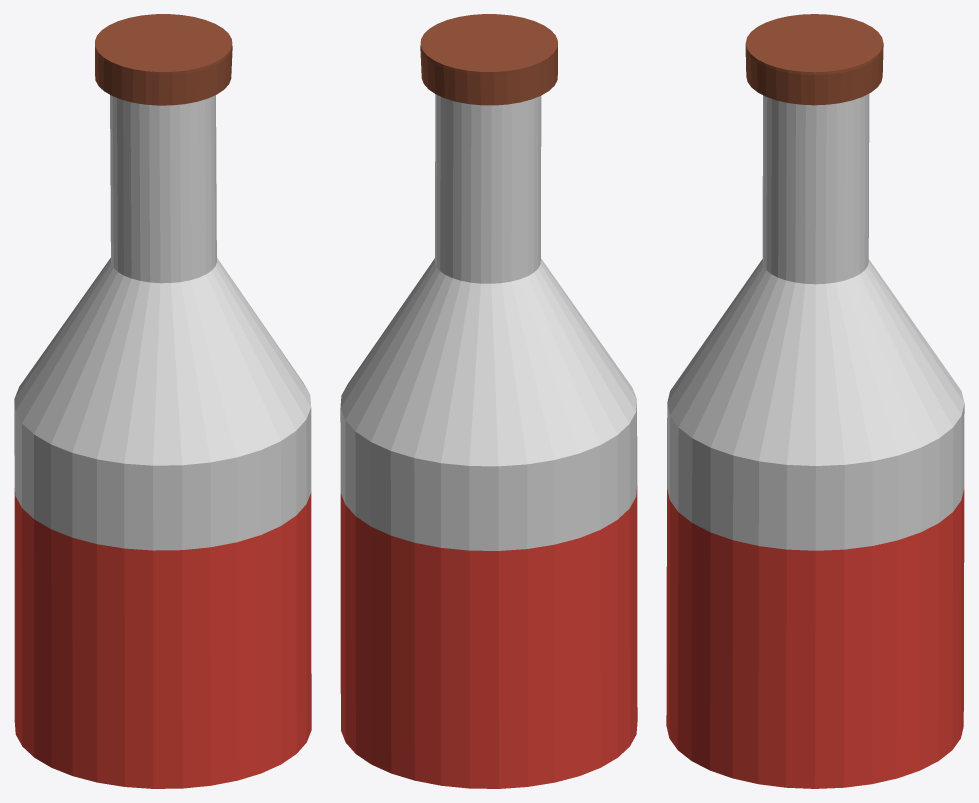
File: Light Potion.fbx
The picture shows the model from 3 angles, left to right: view 1: azimuth 30°, elevation 25°; view 2: azimuth 150°, elevation 25°; view 3: azimuth 270°, elevation 25°; orthographic projection.
Visible parts, largest first — view 1: Circle; view 2: Circle; view 3: Circle.
Part boxes in pixels (x1=…): Circle: x1=14, y1=14, x2=311, y2=788; Circle: x1=340, y1=14, x2=637, y2=788; Circle: x1=666, y1=14, x2=964, y2=788.
Size of the model in its own units: 163 by 413 by 163.
